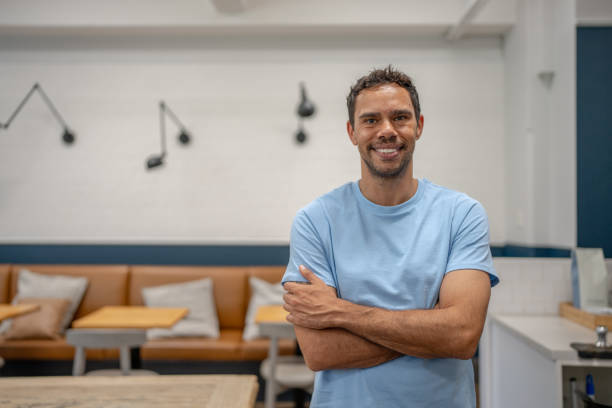Male: (287, 68, 501, 408)
